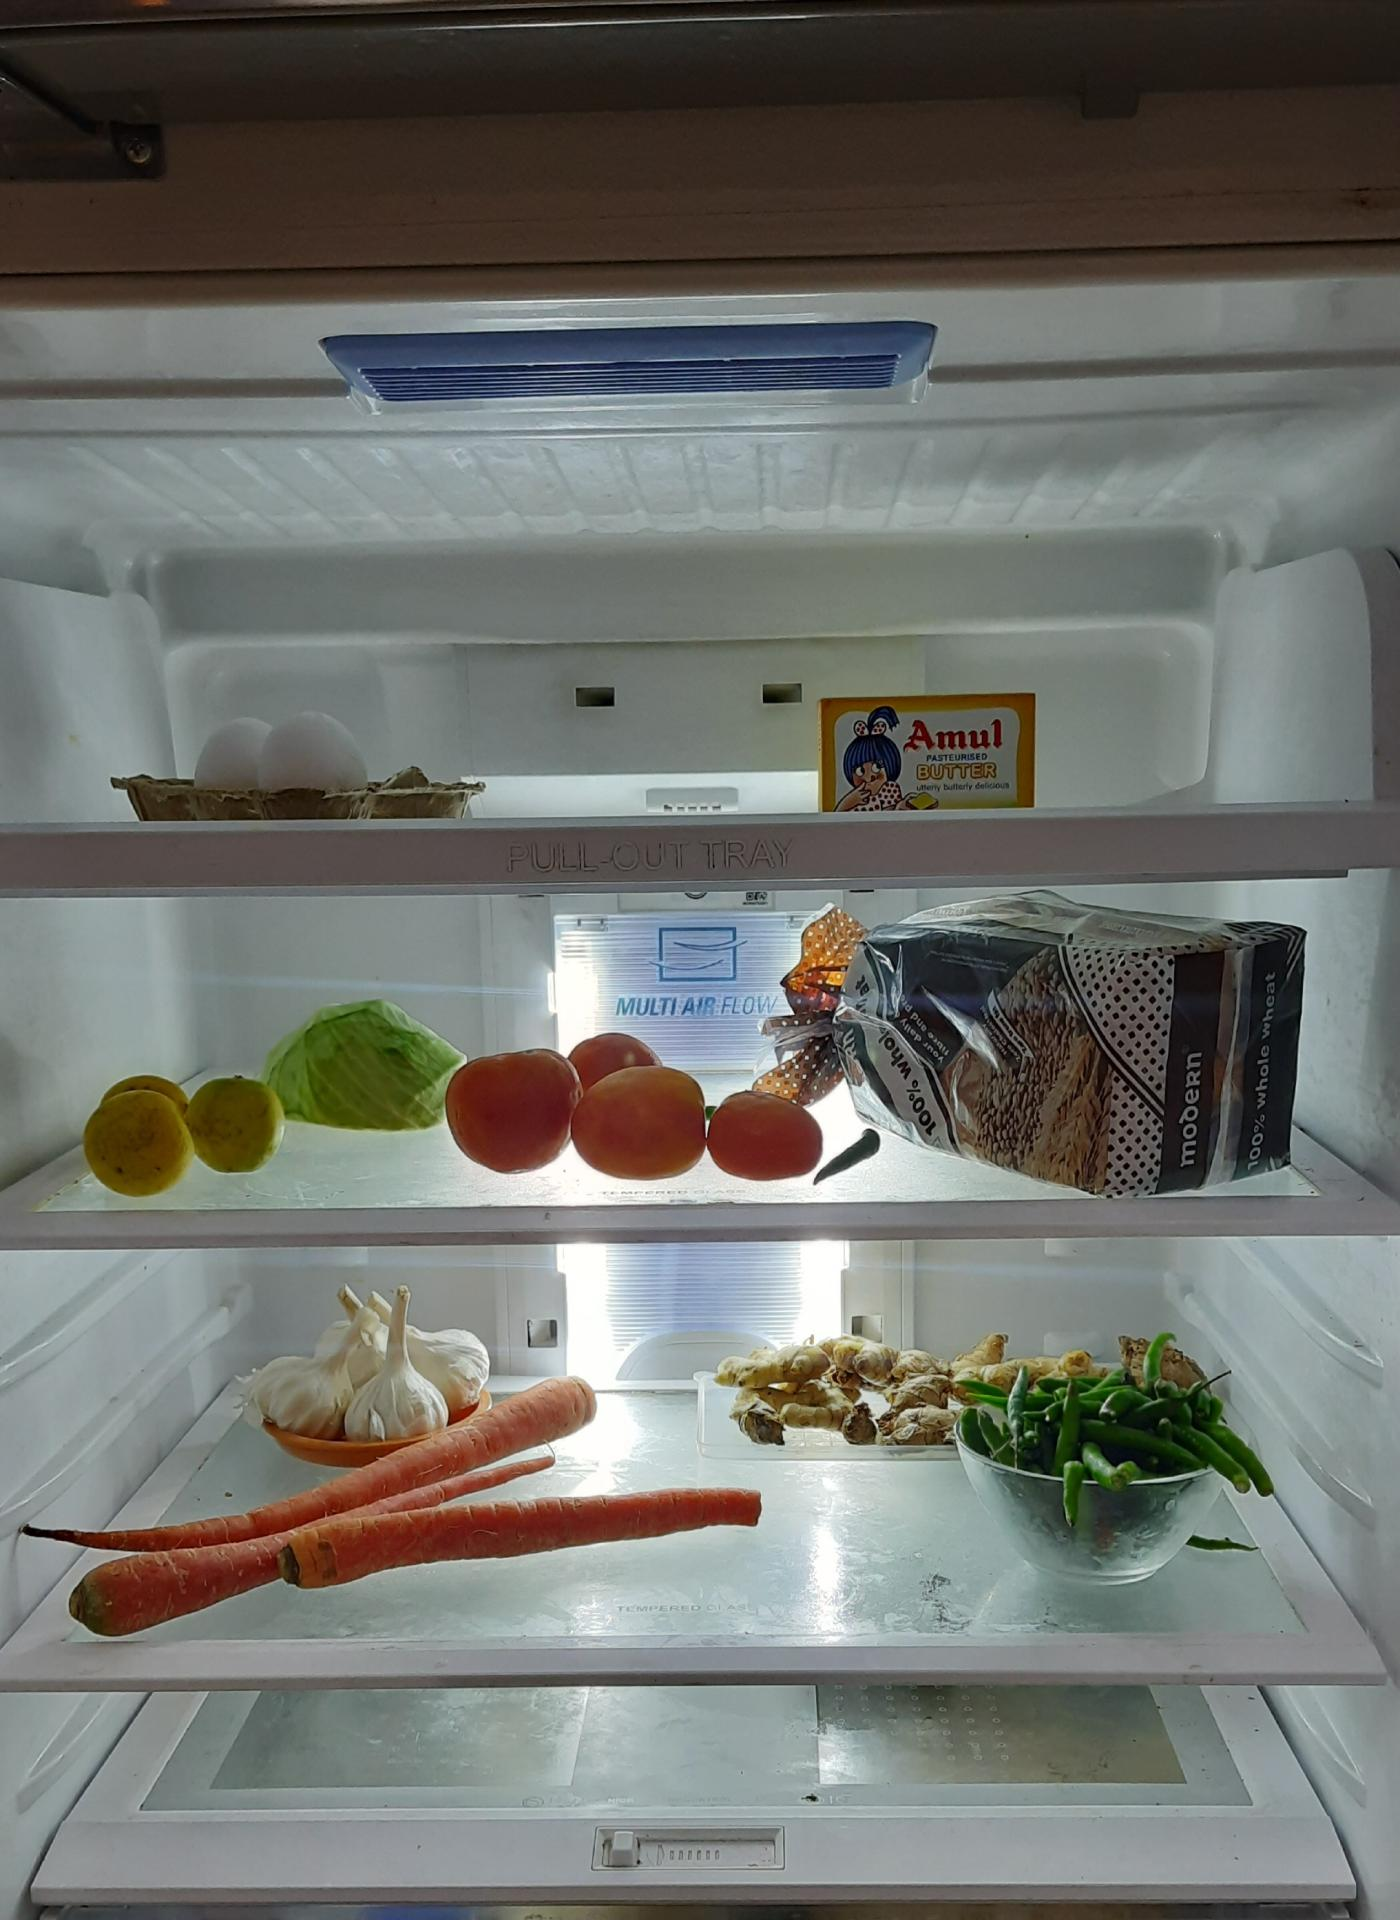bread: (848, 929, 1309, 1197)
butter: (824, 684, 1042, 805)
cabbage: (259, 1003, 470, 1133)
carrots: (18, 1382, 762, 1629)
chillies: (971, 1352, 1267, 1552)
egg: (188, 711, 365, 811)
garlic: (262, 1286, 488, 1447)
ginger: (714, 1336, 975, 1449)
lemon: (82, 1069, 285, 1191)
tomato: (441, 1035, 827, 1178)
